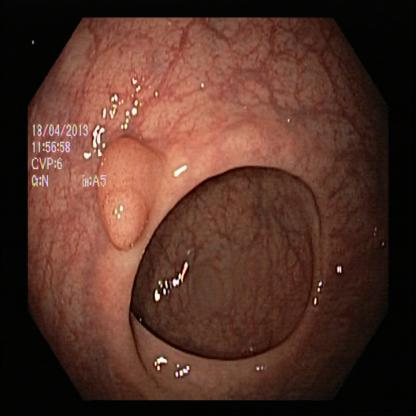Labels: (34, 120, 106, 197)
Polyps: (94, 133, 156, 255)
